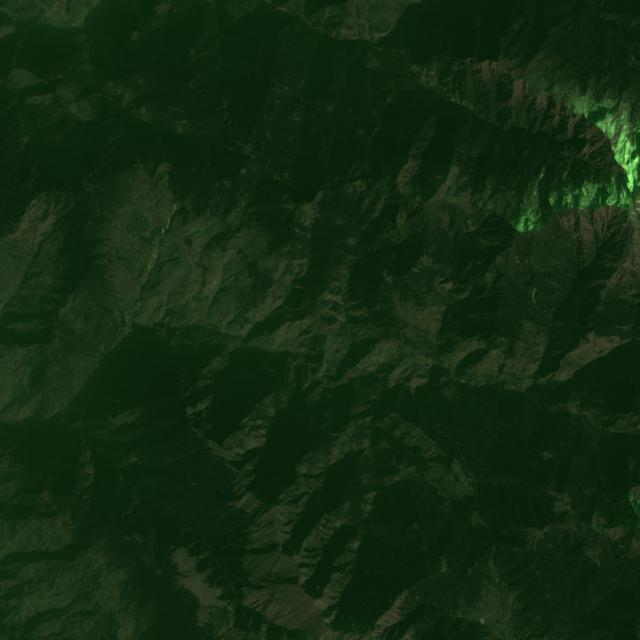landslides: (456, 168, 478, 190), (429, 64, 443, 87), (431, 77, 449, 89), (133, 299, 153, 309), (419, 66, 427, 87), (91, 38, 100, 54), (123, 0, 141, 7), (292, 369, 297, 393), (273, 97, 292, 103), (60, 7, 68, 20), (307, 535, 317, 545)
